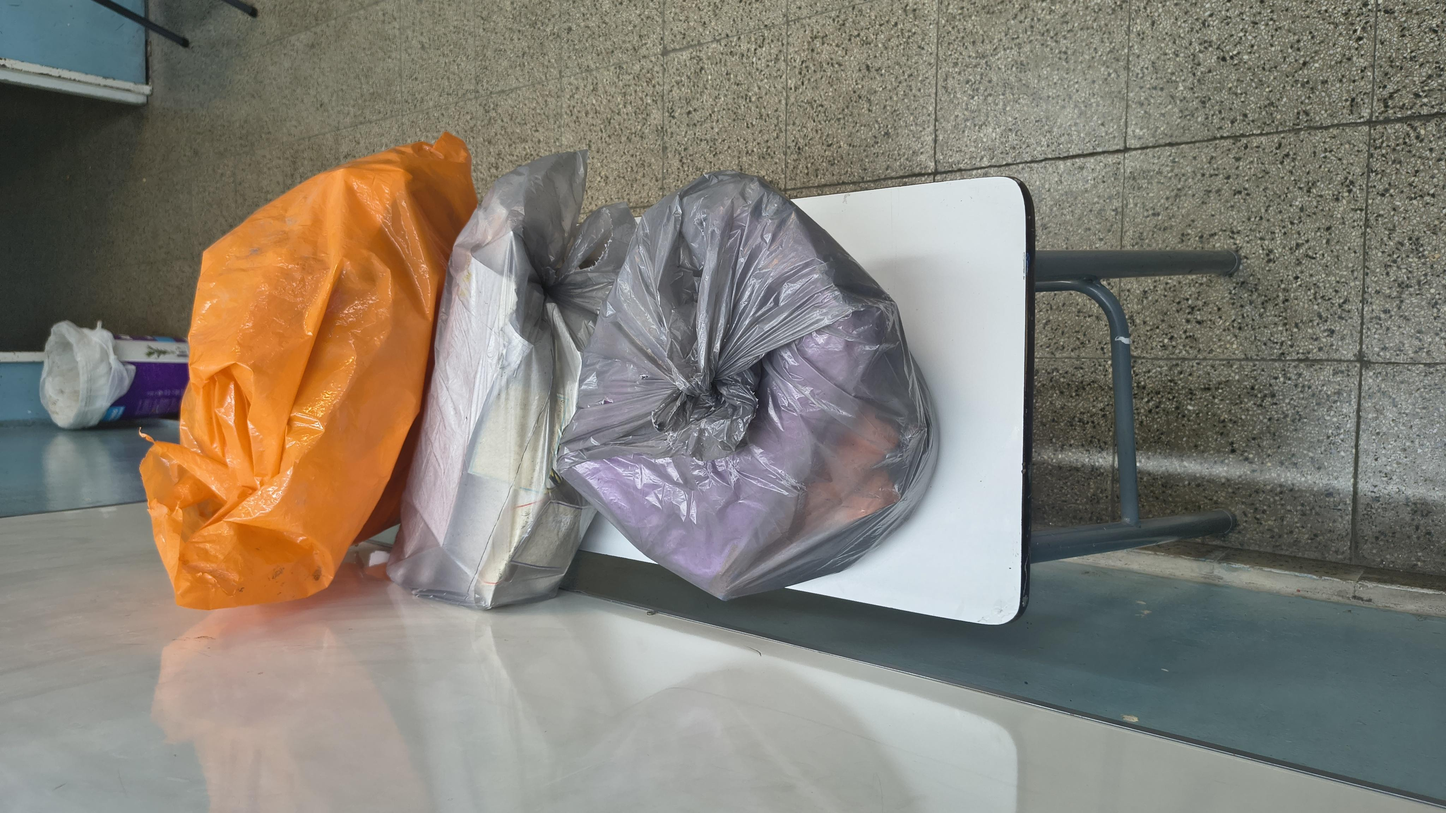Garbage: (364, 300, 1174, 530), (320, 67, 1218, 274), (333, 208, 1218, 341)
